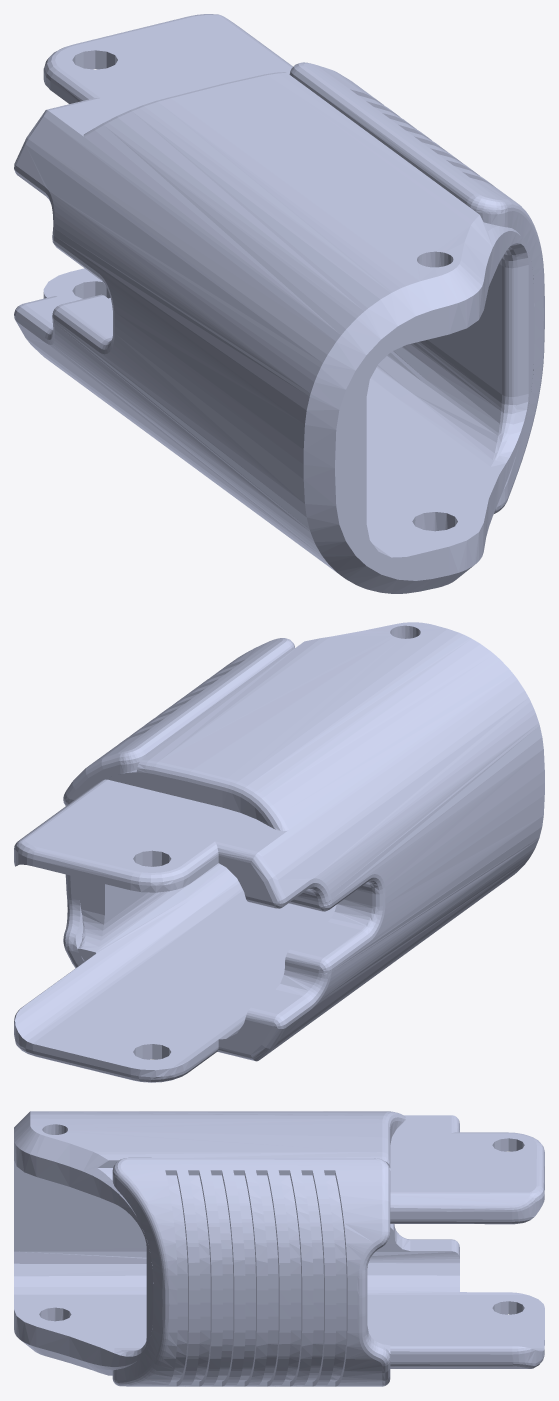
Rendered from lh_ring_proximal_vis.obj.
The picture shows the model from 3 angles, top to bottom: view 1: azimuth 30°, elevation 25°; view 2: azimuth 150°, elevation 25°; view 3: azimuth 270°, elevation 25°; orthographic projection. The views are drawn at different scales.
Visible parts, largest first — view 1: lh_ring_proximal; view 2: lh_ring_proximal; view 3: lh_ring_proximal.
Boxes of the visible parts, x1,y1,x2,y2 form: lh_ring_proximal: [14, 14, 544, 593]; lh_ring_proximal: [14, 622, 544, 1082]; lh_ring_proximal: [14, 1111, 544, 1386].
Size of the model in its own units: 0.017 by 0.0154 by 0.0328.
1 material, 1 textured.
